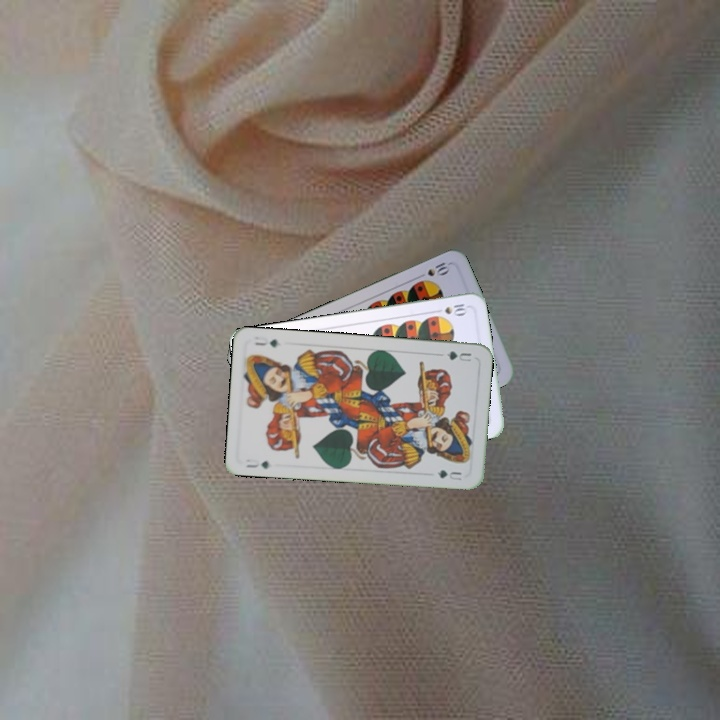GU: (442, 347, 474, 364), (242, 455, 272, 471)
S10: (413, 258, 452, 281), (440, 299, 470, 317)
